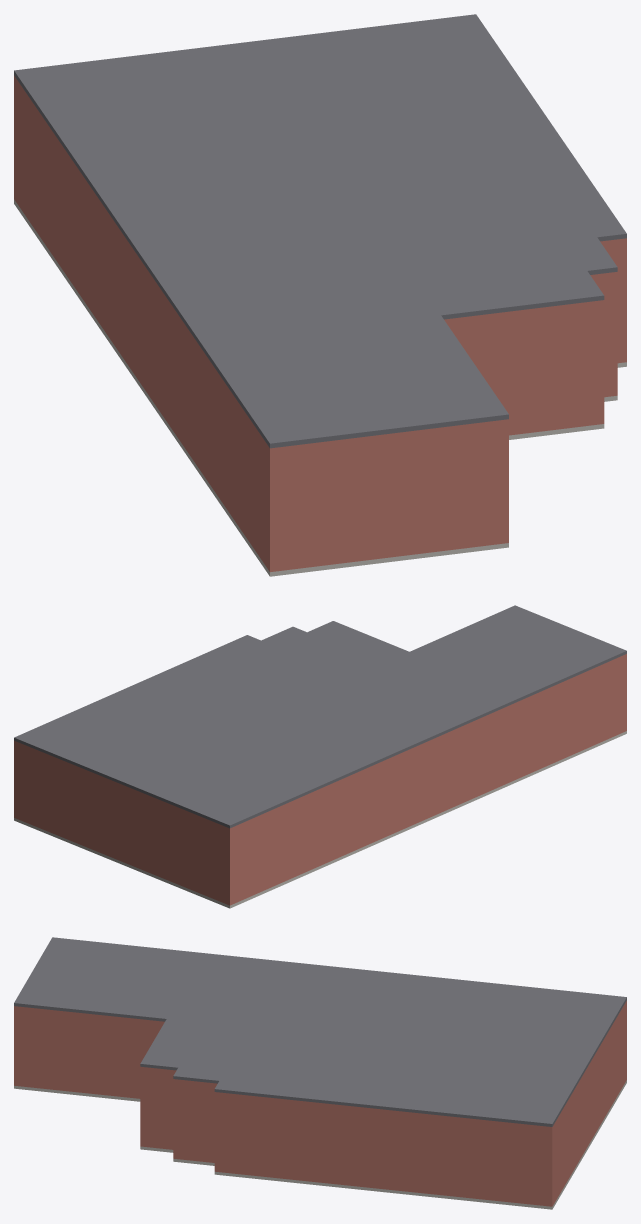
File: portugalia.glb
The picture shows the model from 3 angles, top to bottom: view 1: azimuth 30°, elevation 25°; view 2: azimuth 150°, elevation 25°; view 3: azimuth 270°, elevation 25°; orthographic projection. The views are drawn at different scales.
Parts seen in each view (by area): view 1: portugalia_roof, portugalia_walls, portugalia_plinth; view 2: portugalia_roof, portugalia_walls, portugalia_plinth; view 3: portugalia_roof, portugalia_walls, portugalia_plinth.
Part boxes in pixels (x1,y1,x2,y2): portugalia_roof: (14,14,626,448); portugalia_walls: (14,75,626,572); portugalia_plinth: (14,199,626,576); portugalia_roof: (14,605,626,828); portugalia_walls: (14,654,626,905); portugalia_plinth: (14,731,626,908); portugalia_roof: (14,937,626,1126); portugalia_walls: (14,1000,626,1206); portugalia_plinth: (14,1080,626,1209).
Size of the model in its own units: 40.84 by 8.75 by 56.66.
